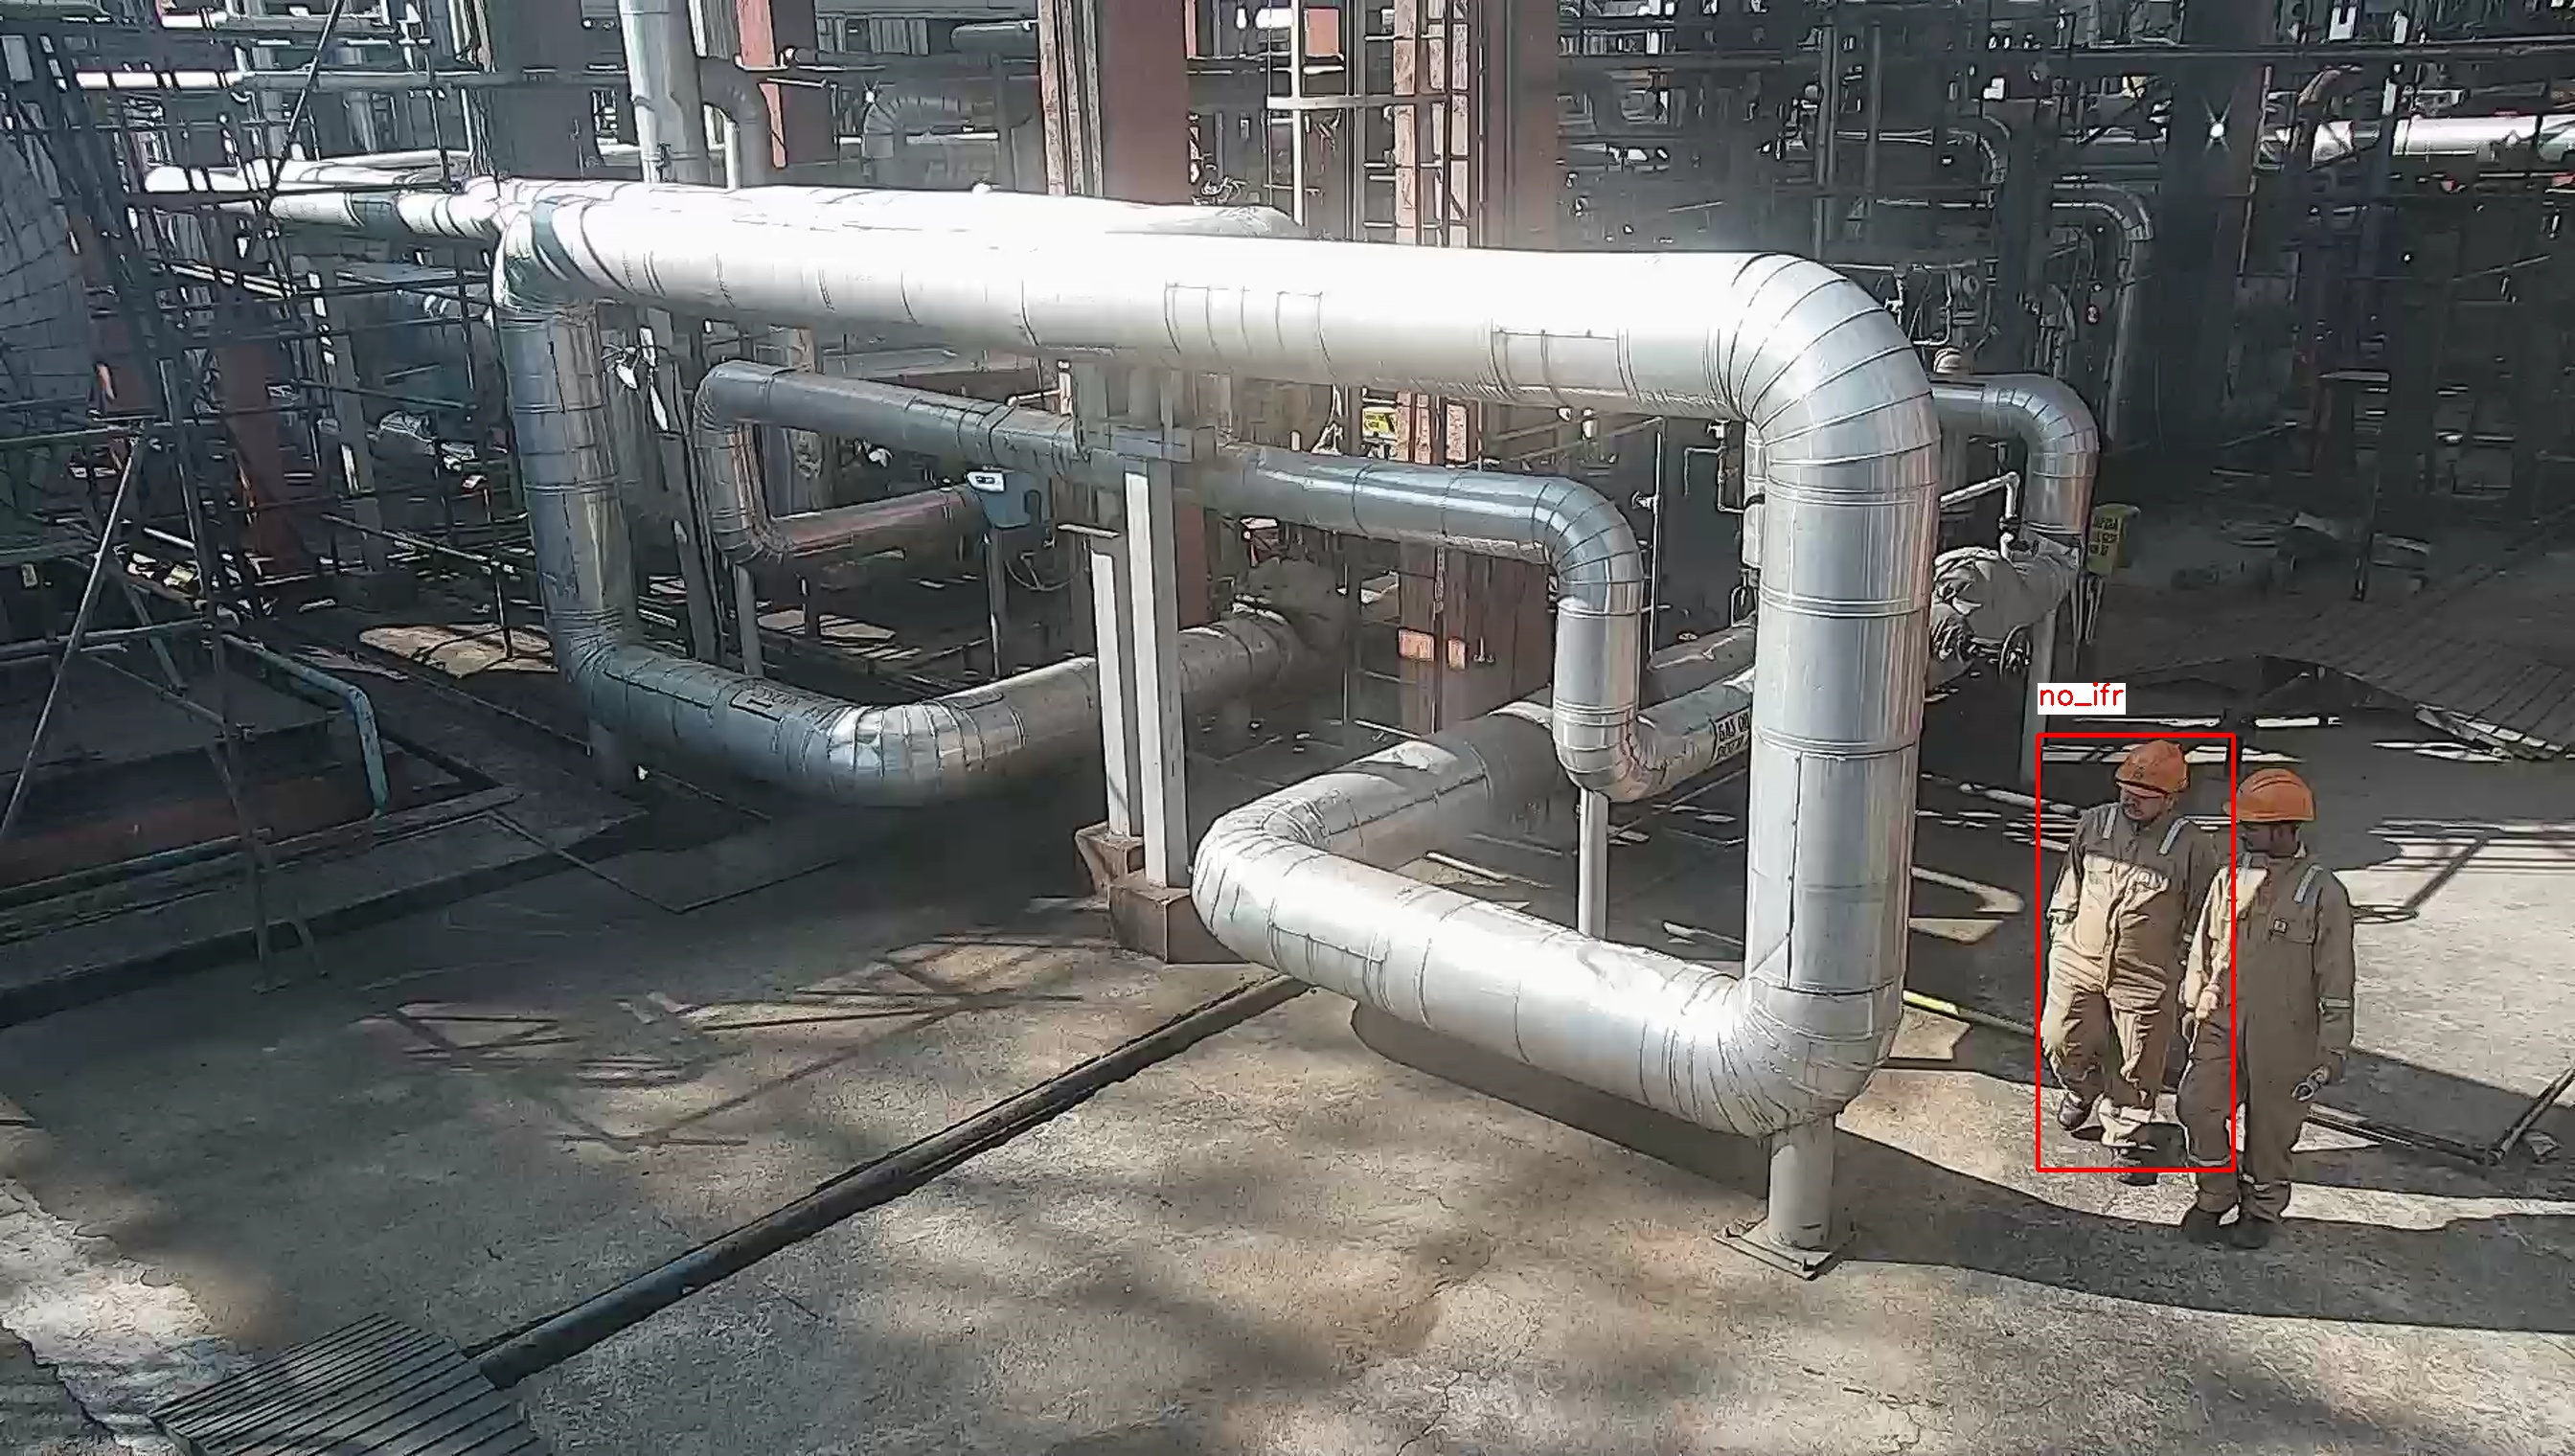Helmets: (2225, 761, 2327, 828), (2110, 741, 2198, 803)
IFR_Suit: (2181, 851, 2363, 1212), (2044, 807, 2205, 1100)
